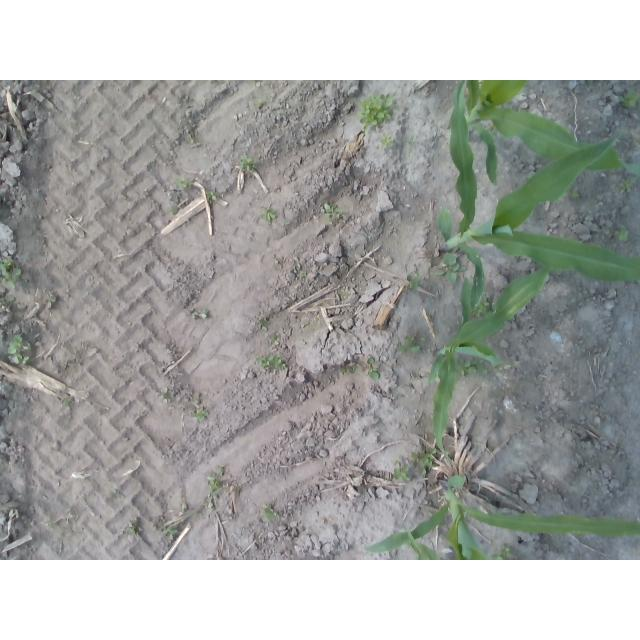Maize: (432, 80, 640, 316), (429, 266, 554, 468), (363, 472, 640, 559), (456, 80, 640, 188)
Weeds: (356, 93, 393, 132), (434, 251, 467, 285), (410, 447, 438, 476), (6, 333, 31, 365), (1, 257, 24, 289), (456, 355, 489, 377), (397, 333, 427, 354), (472, 297, 496, 319), (256, 353, 285, 371), (619, 86, 640, 108), (393, 458, 411, 483), (323, 203, 346, 222), (192, 397, 209, 421), (237, 154, 257, 173), (404, 275, 424, 294), (490, 545, 515, 560), (366, 356, 381, 380), (206, 475, 222, 497), (161, 524, 180, 540), (260, 206, 277, 223), (261, 504, 278, 521), (486, 119, 499, 141), (175, 176, 194, 190), (619, 178, 634, 195), (126, 519, 143, 534), (613, 227, 629, 242), (253, 317, 269, 332), (160, 387, 173, 404), (380, 134, 394, 148), (45, 292, 56, 308), (192, 308, 208, 318), (205, 189, 217, 200), (269, 335, 280, 346), (1, 294, 16, 302), (568, 190, 581, 199), (406, 137, 414, 151), (205, 501, 216, 511), (341, 366, 352, 376), (167, 205, 177, 215), (63, 397, 73, 407), (256, 98, 267, 106), (354, 364, 362, 373), (298, 270, 307, 278), (49, 521, 56, 531), (187, 131, 193, 137)
